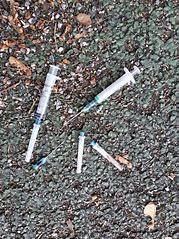Syringe: (68, 62, 147, 128), (20, 55, 62, 167), (90, 139, 132, 171), (76, 132, 88, 178)
